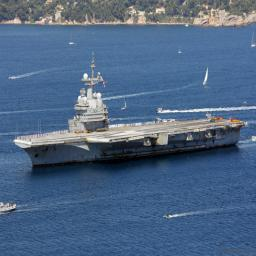Portanaves: (13, 48, 249, 173)
